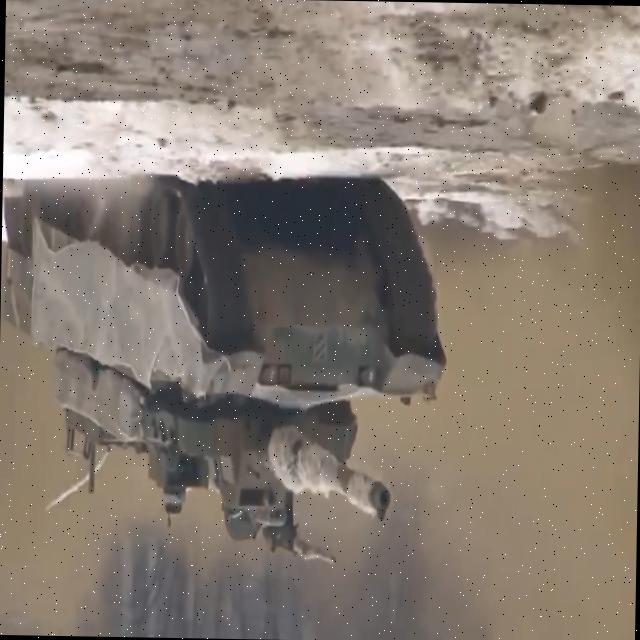korea tank: (0, 168, 453, 569)
